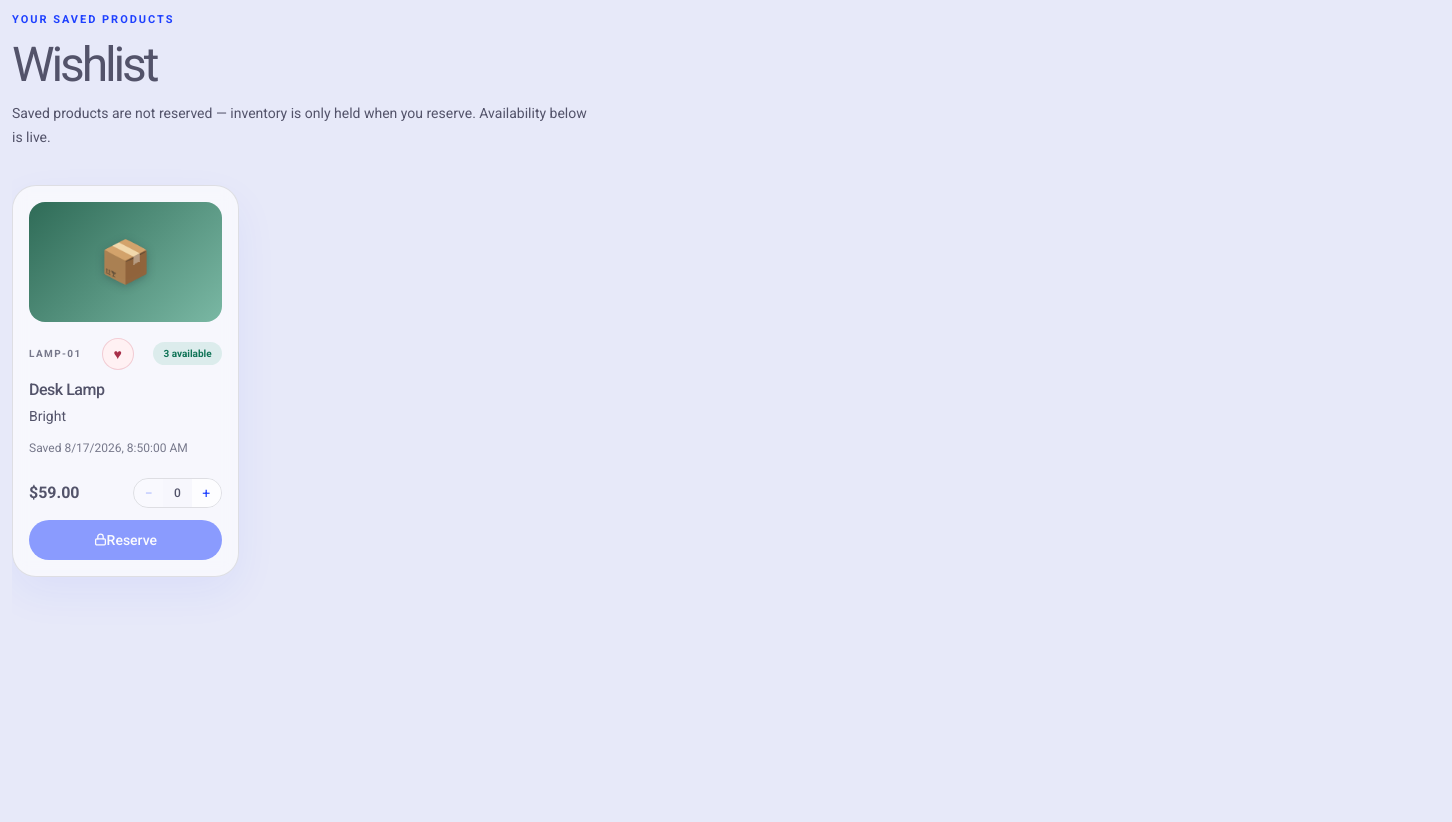
Scenario: CustomerWishlist › shows saved products with live availability and reserves through the normal flow
Check: the heading "Desk Lamp" is shown, box top-left (29, 380), bottom-right (104, 399)
Check: the text "3 available" is shown, box top-left (154, 342), bottom-right (222, 365)
Click the button named "Add one Desk Lamp" at (206, 493), box top-left (192, 479), bottom-right (221, 507)
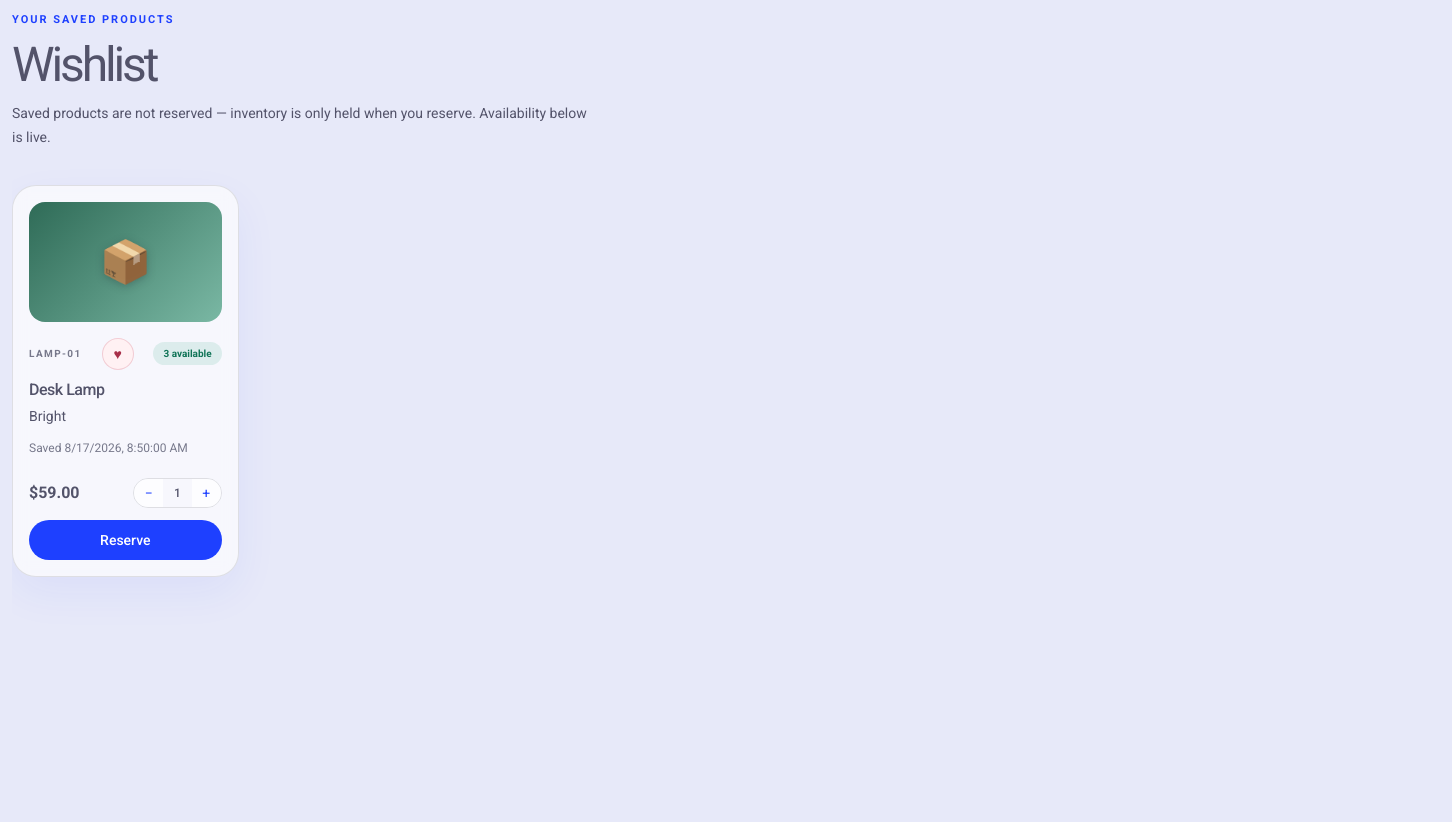
Check: the button "Reserve" is enabled
Click the button "Reserve" at (125, 540), box top-left (29, 520), bottom-right (222, 560)
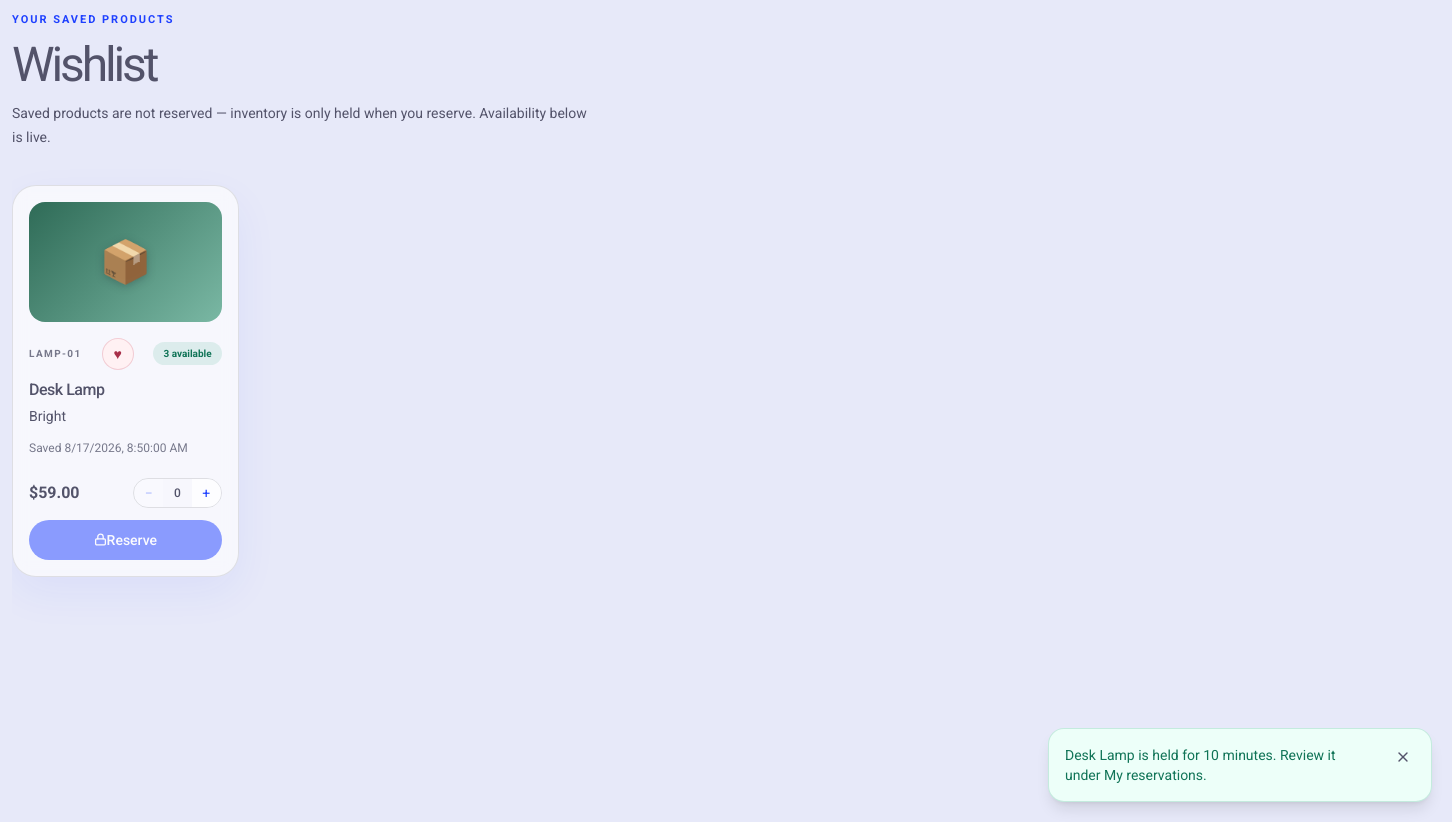
Check: the text "held for 10 minutes" is shown, box top-left (1065, 747), bottom-right (1336, 783)
